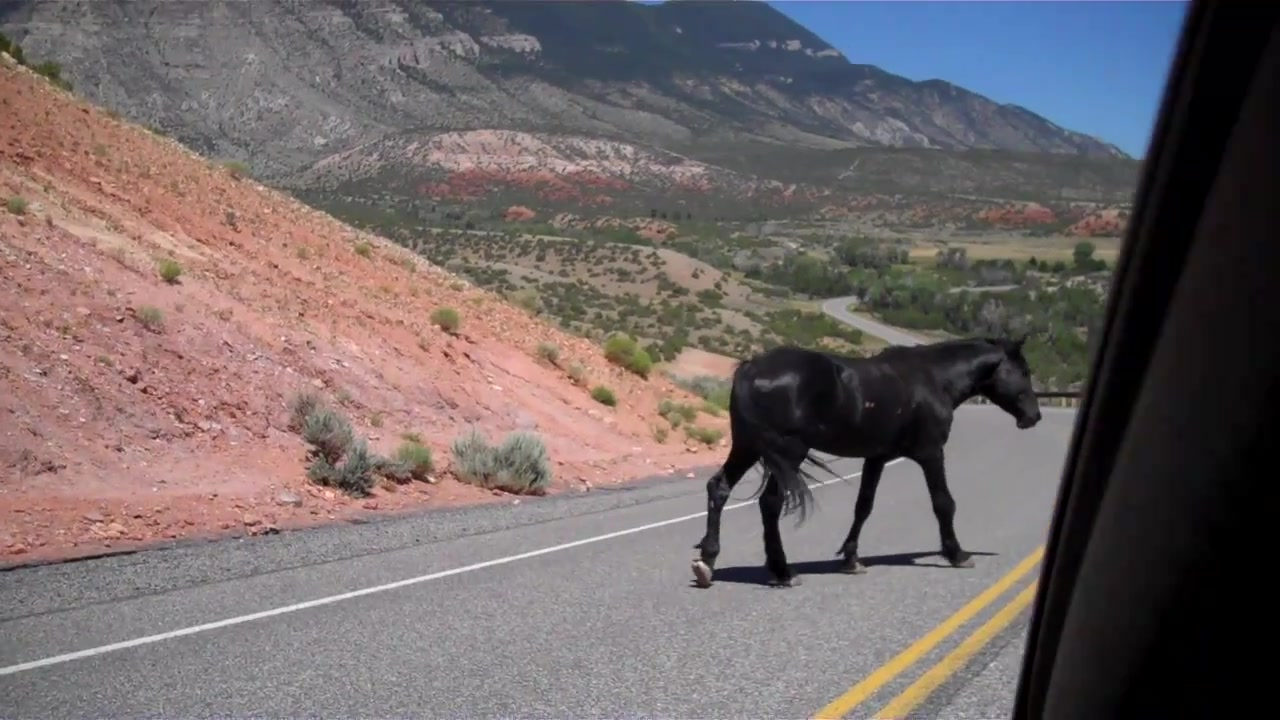horse: (691, 330, 1048, 591)
